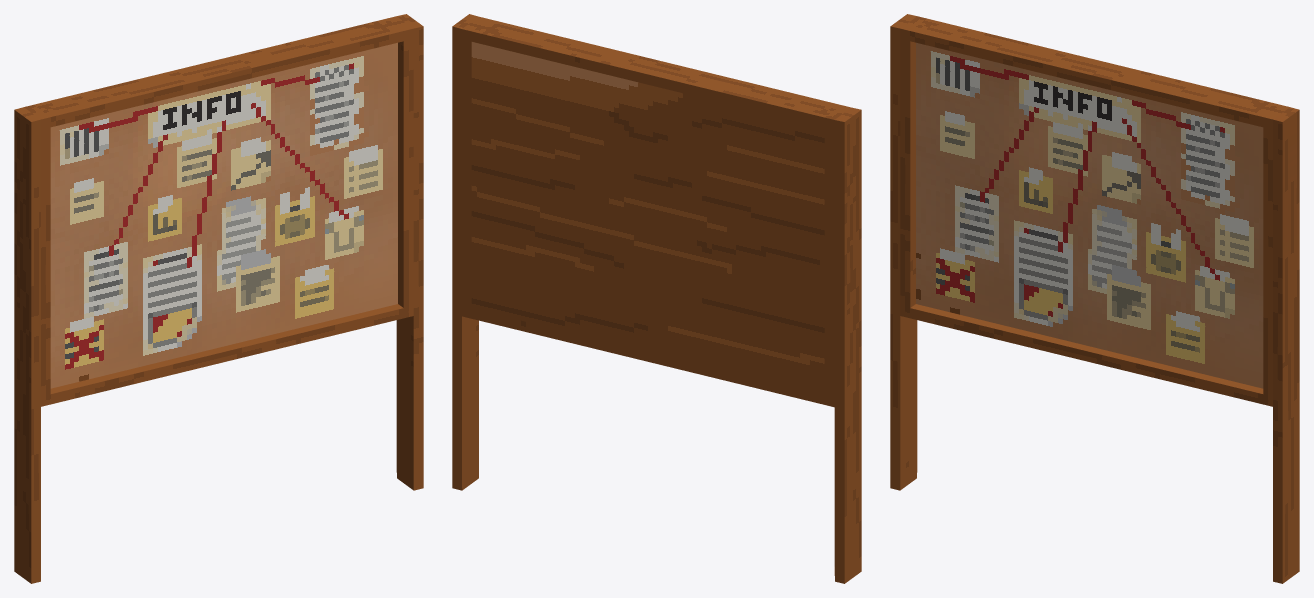
File: Info Board.gltf
3 renders of one model, left to right at view 1: azimuth 30°, elevation 25°; view 2: azimuth 150°, elevation 25°; view 3: azimuth 330°, elevation 25°, orthographic.
Visible parts, largest first — view 1: cuboid; view 2: cuboid; view 3: cuboid.
Part boxes in pixels (x1=…): cuboid: x1=14, y1=14, x2=423, y2=583; cuboid: x1=452, y1=14, x2=861, y2=583; cuboid: x1=890, y1=14, x2=1299, y2=583.
Bounding box in the file's own units: 2.5 × 2.81 × 0.1906.
Materials: 1 (1 with a texture image).
